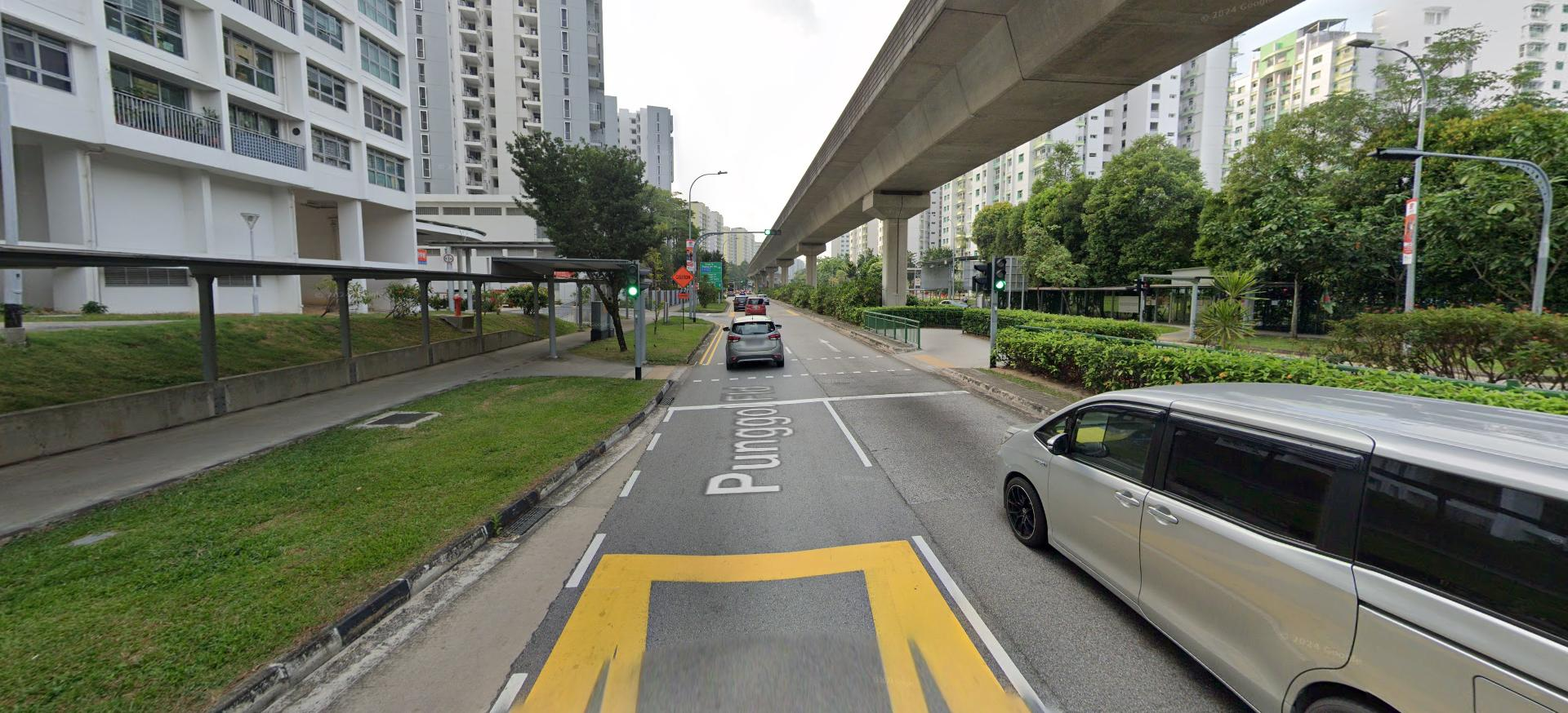defect: (496, 506, 557, 538)
